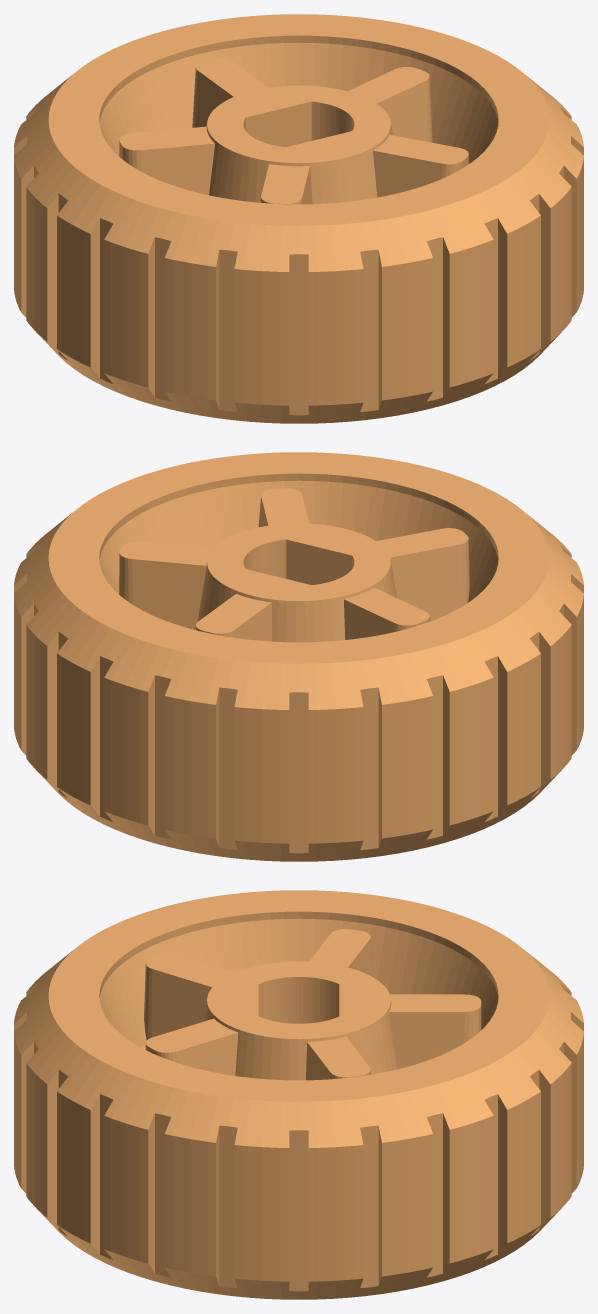
File: veh-wheel-sport.glb
The picture shows the model from 3 angles, top to bottom: view 1: azimuth 30°, elevation 25°; view 2: azimuth 150°, elevation 25°; view 3: azimuth 270°, elevation 25°; orthographic projection.
Parts seen in each view (by area): view 1: veh-wheel-sport; view 2: veh-wheel-sport; view 3: veh-wheel-sport.
Part boxes in pixels (x1,y1,x2,y2): veh-wheel-sport: [14, 14, 583, 423]; veh-wheel-sport: [14, 452, 583, 861]; veh-wheel-sport: [14, 890, 583, 1299].
Bounding box in the file's own units: 0.036 × 0.0135 × 0.036.
